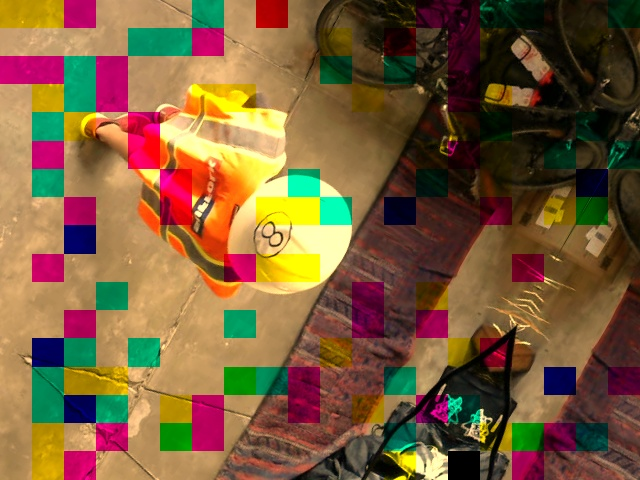eight: (244, 203, 300, 263)
